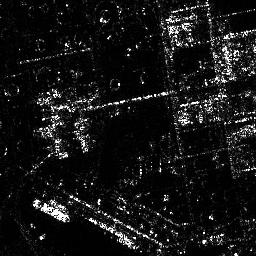ship: (32, 197, 72, 224)
